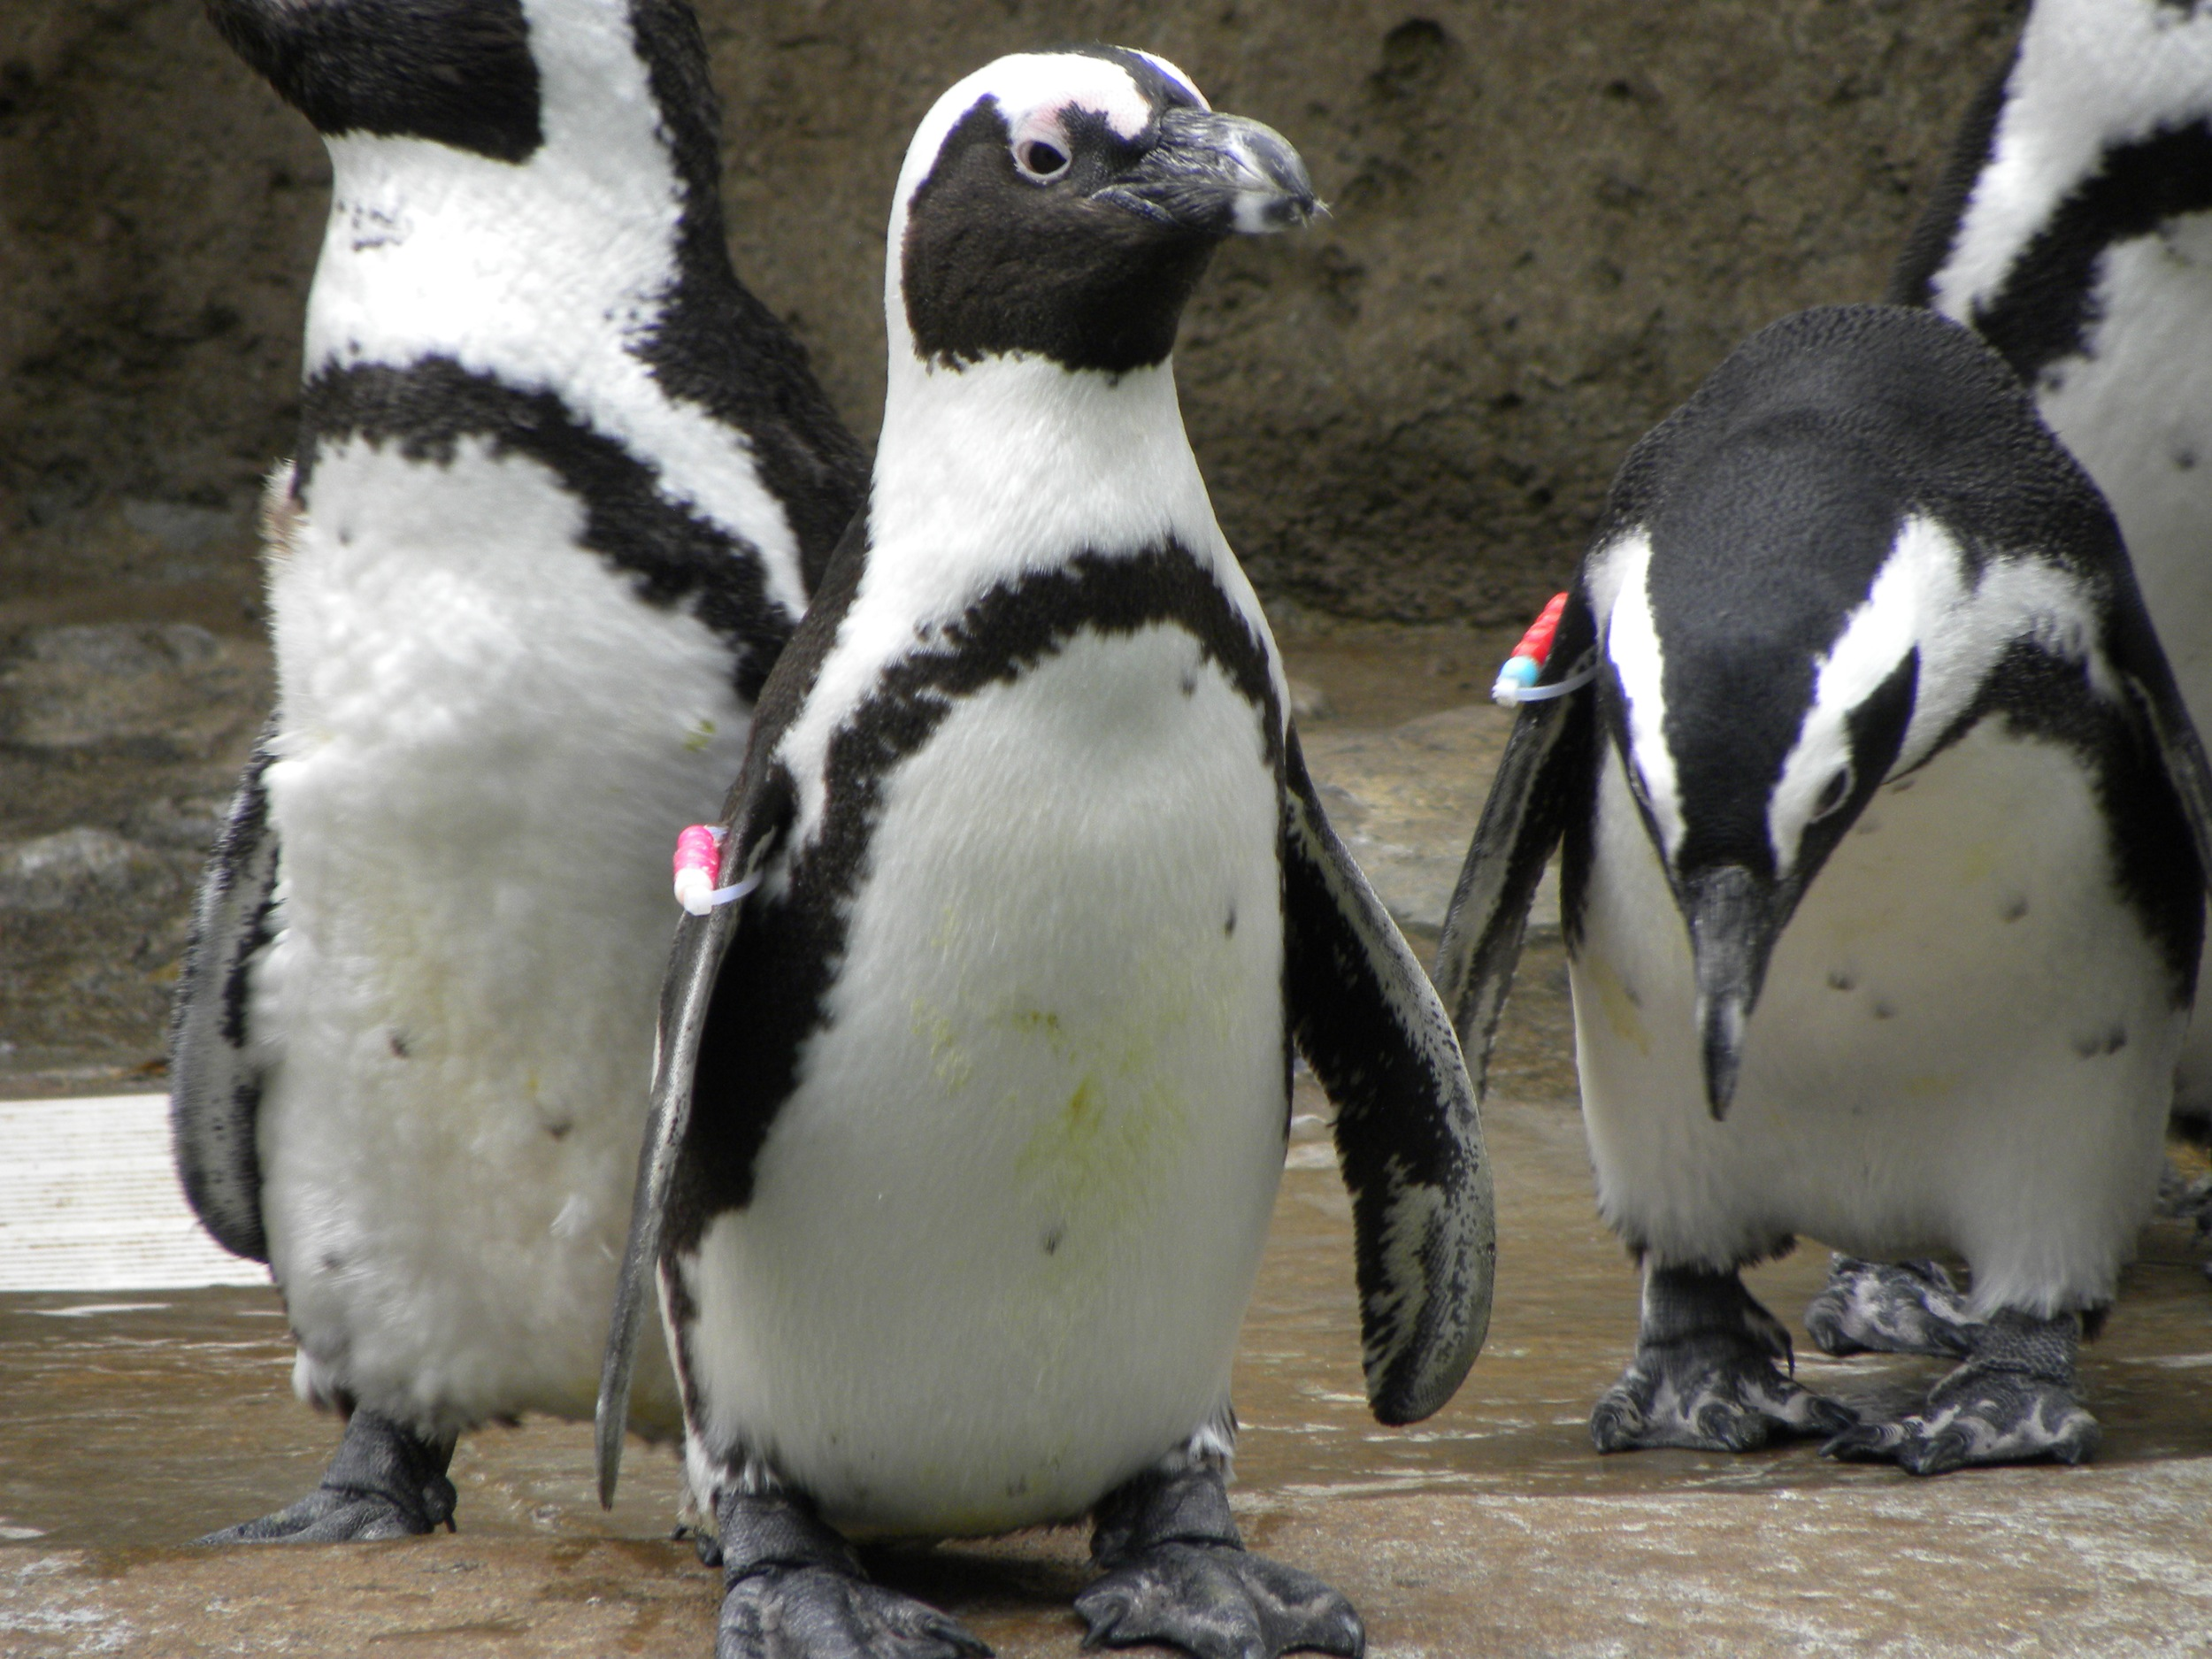penguin: (723, 38, 1486, 1657)
